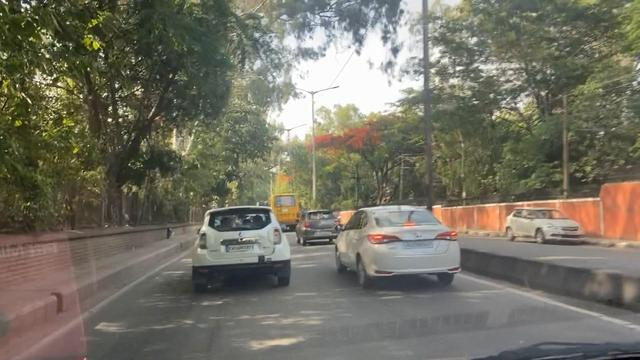LMV: (335, 203, 458, 287), (193, 208, 291, 284), (299, 211, 341, 238)
